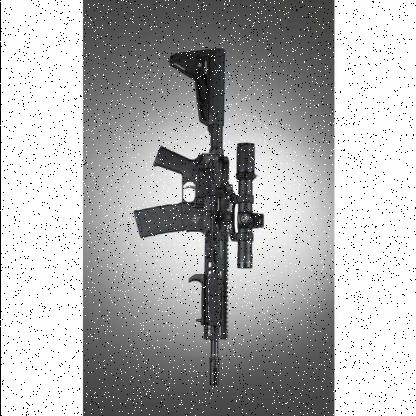rifle: (120, 43, 270, 403)
